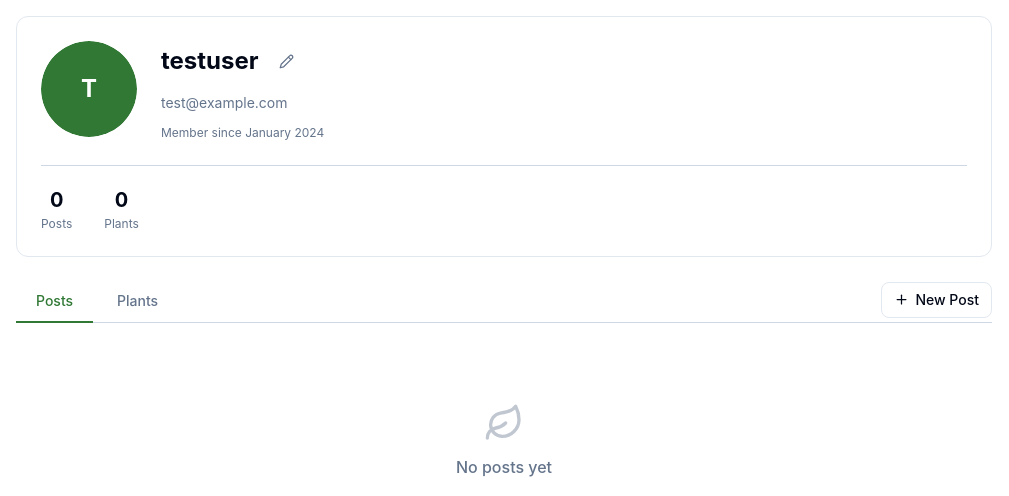
Test: ProfilePage › Tabs › shows "No plants yet" empty state when plants array is empty
What coordinates should you click on to do the following:
click the button "Plants"
I would click on:
 (138, 302)
Its box is top-left (97, 281), bottom-right (178, 323).
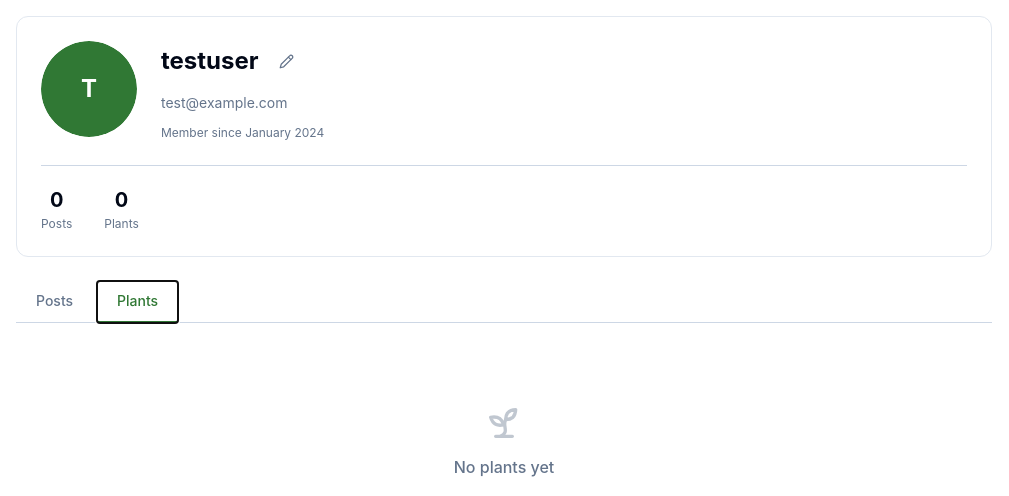
Check: the text "No plants yet" is shown, box top-left (454, 455), bottom-right (554, 479)
